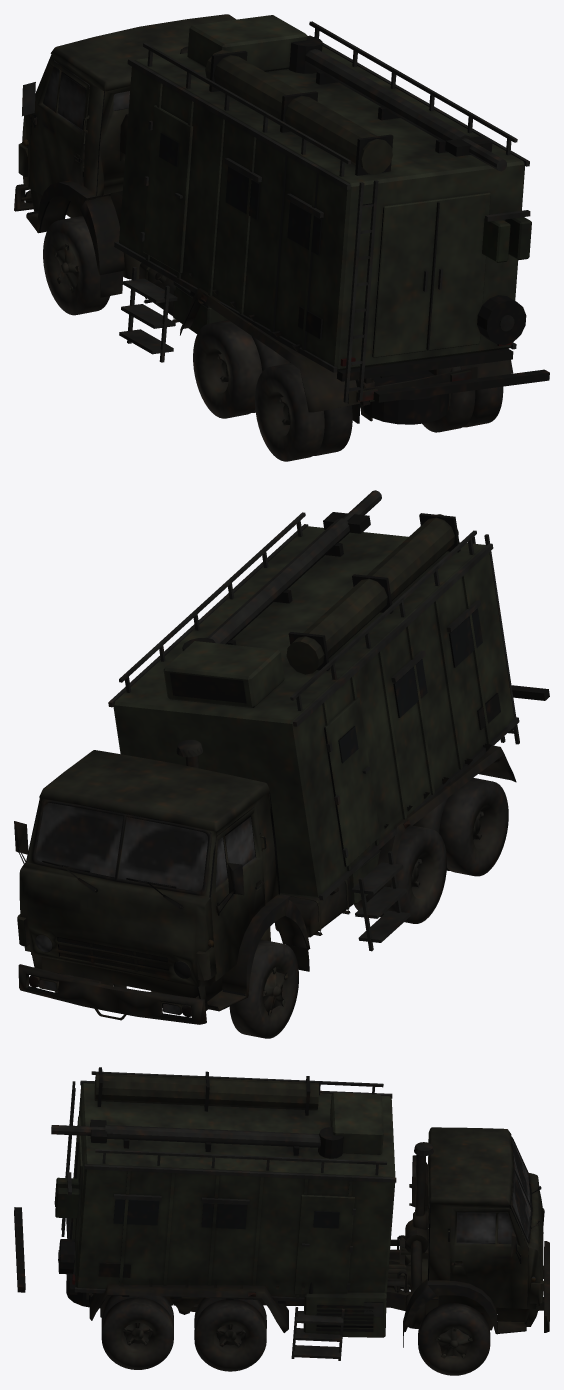
Rendered from lccv-wreck.glb.
The picture shows the model from 3 angles, top to bottom: view 1: azimuth 30°, elevation 25°; view 2: azimuth 150°, elevation 25°; view 3: azimuth 270°, elevation 25°; orthographic projection. The views are drawn at different scales.
Parts seen in each view (by area): view 1: hull; view 2: hull; view 3: hull.
Boxes of the visible parts, x1,y1,x2,y2 form: hull: [14, 14, 549, 461]; hull: [14, 490, 549, 1038]; hull: [14, 1067, 549, 1375].
Size of the model in its own units: 3.43 by 4.49 by 8.5.
Materials: 1 (1 with a texture image).
